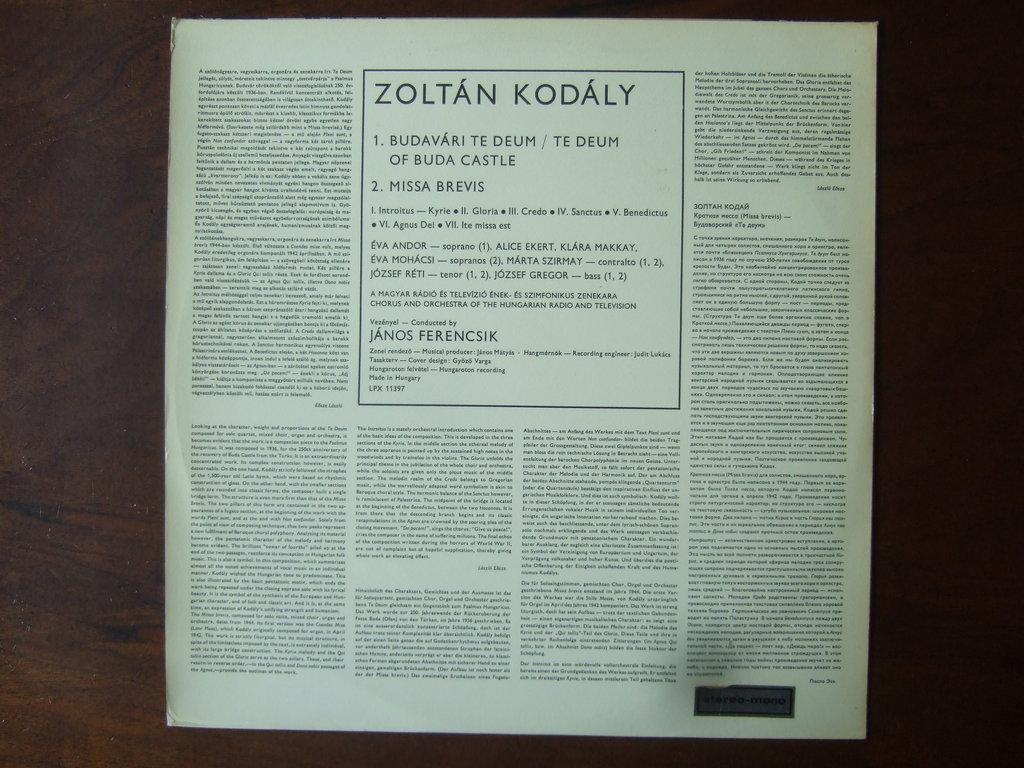book: (163, 15, 867, 746)
